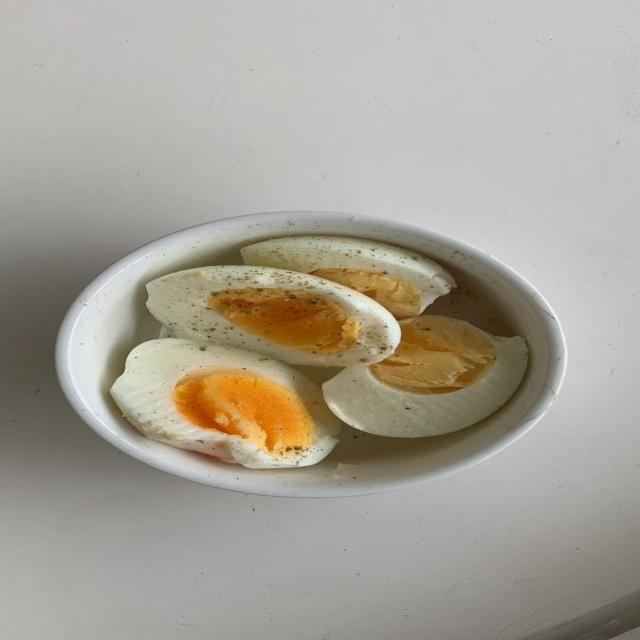egg boiled: (111, 339, 340, 468), (147, 266, 400, 366), (323, 316, 528, 437), (240, 236, 456, 318)
